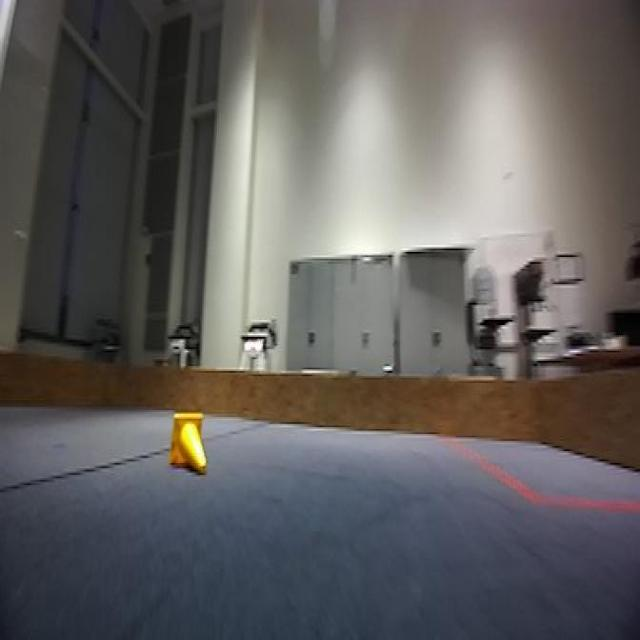frc_cone: (167, 407, 210, 478)
